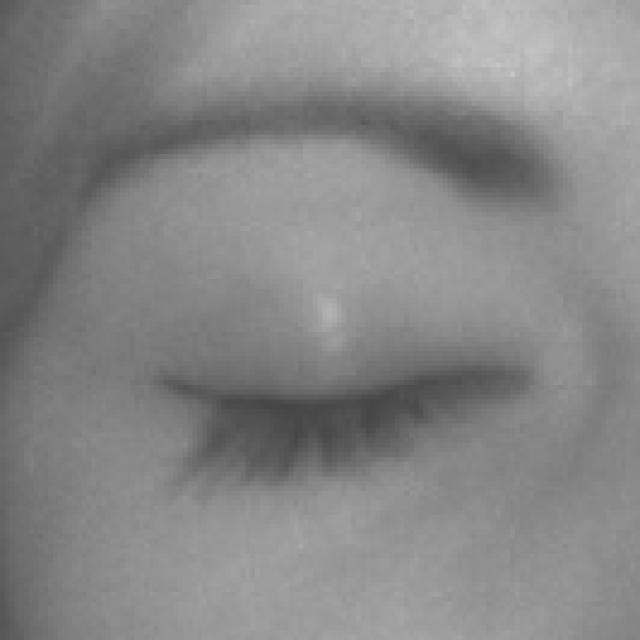Eyeclosed: (153, 223, 538, 570)
